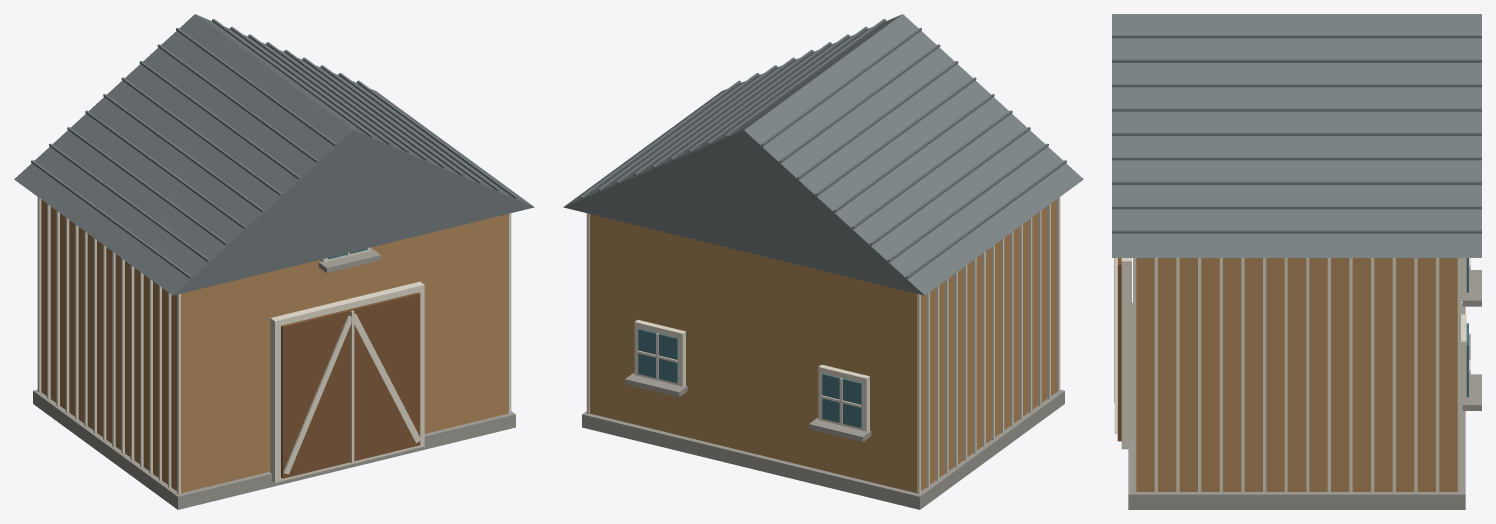
File: barn-2.glb
3 renders of one model, left to right at view 1: azimuth 30°, elevation 25°; view 2: azimuth 150°, elevation 25°; view 3: azimuth 270°, elevation 25°, orthographic. The views are drawn at different scales.
Visible parts, largest first — view 1: barn-2; view 2: barn-2; view 3: barn-2.
Part boxes in pixels (bbox=[...]): barn-2: bbox=[14, 14, 534, 509]; barn-2: bbox=[563, 14, 1083, 509]; barn-2: bbox=[1112, 14, 1481, 509].
Size of the model in its own units: 7.5 by 6.8 by 5.7.
